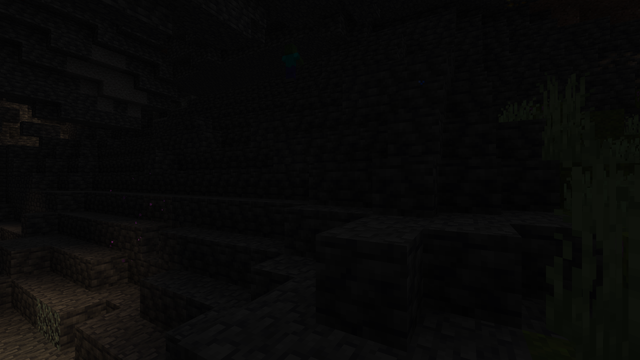zombies: (283, 43, 298, 83)
